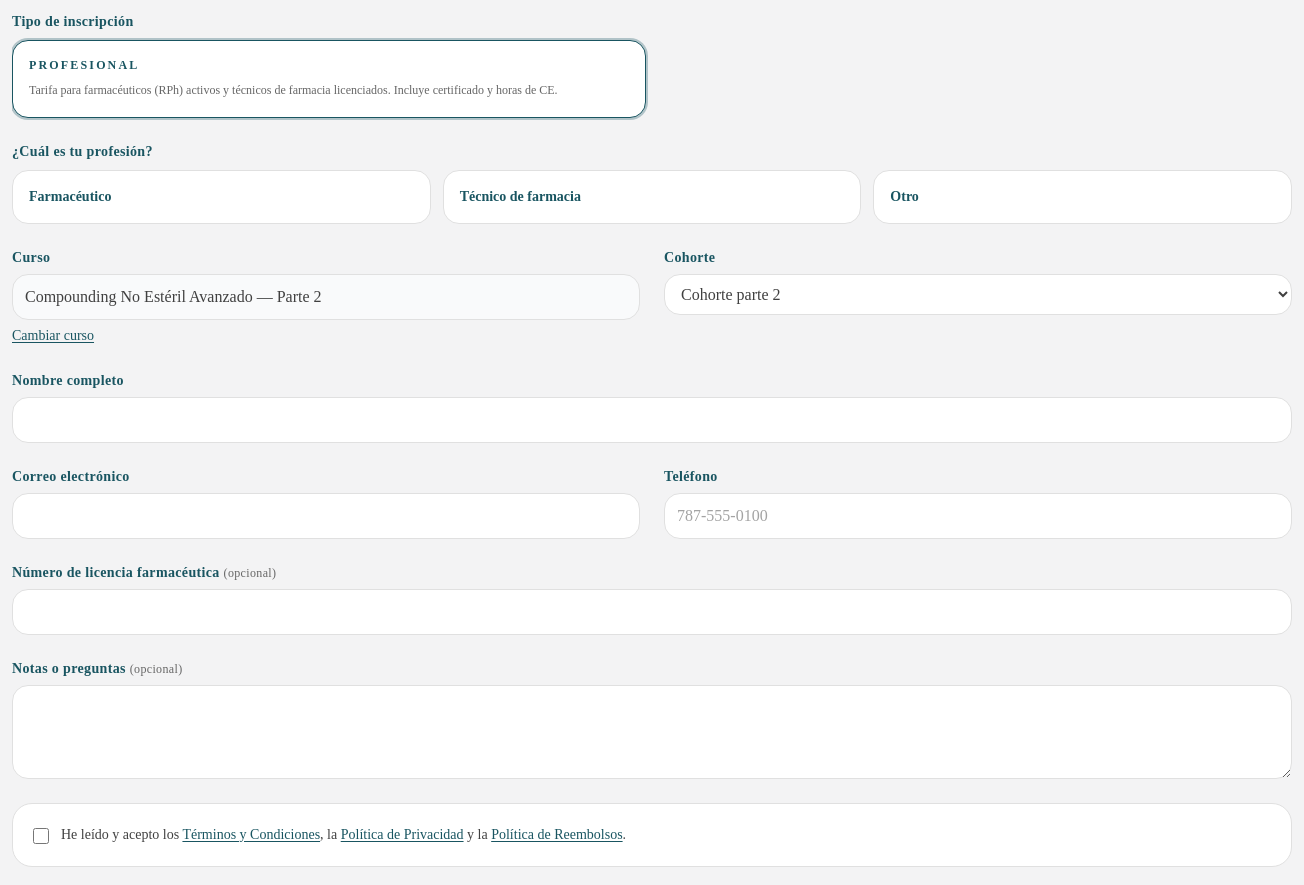
Test case: InscripcionForm — selector de curso simplificado › 'Cambiar curso' reabre el menú con los cursos elegibles
The image size is (1304, 885).
Click the button "Cambiar curso". click: (53,336)
box: [12,326,94,346]
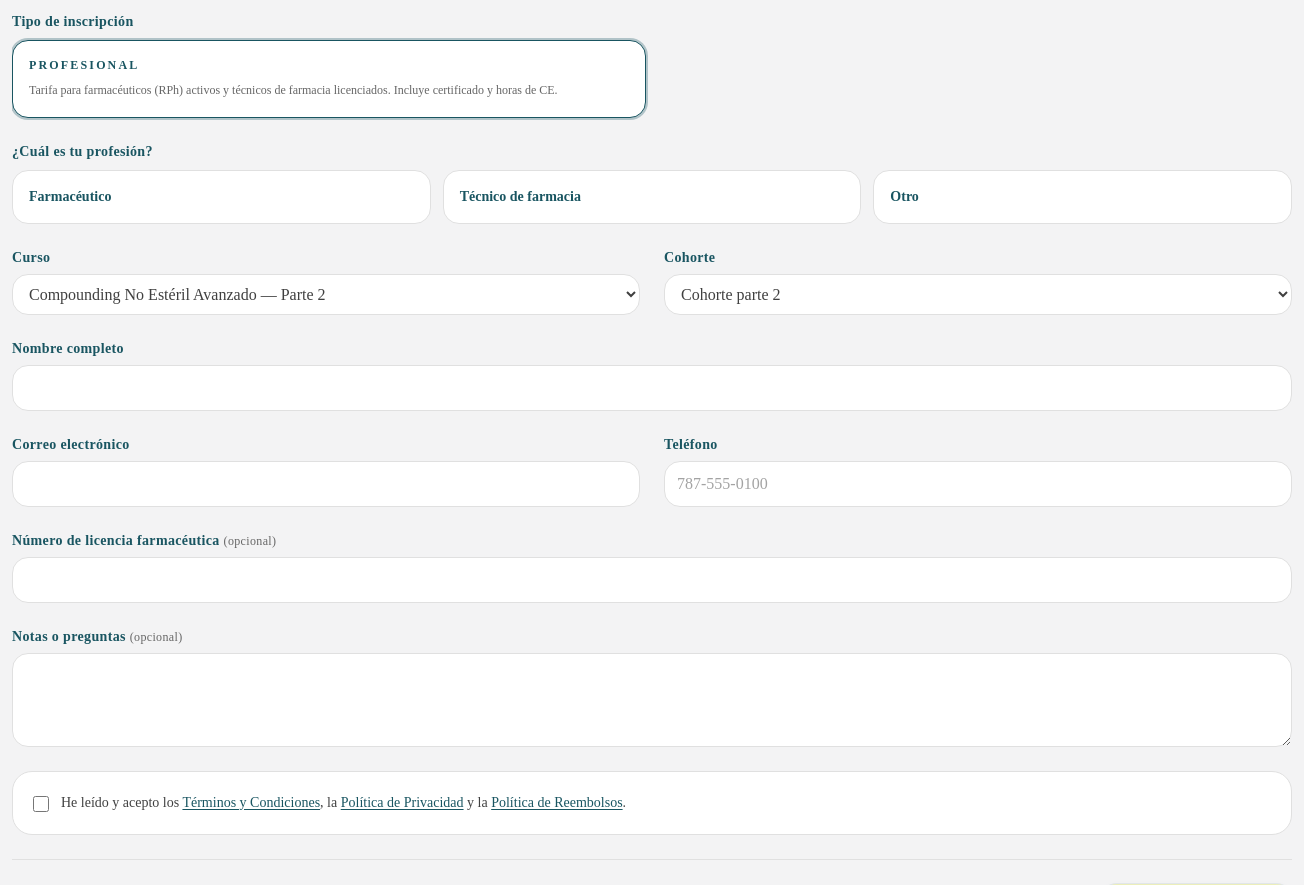
expect the dropdown named "curso_id" is shown: met, box [12,274,640,314]
